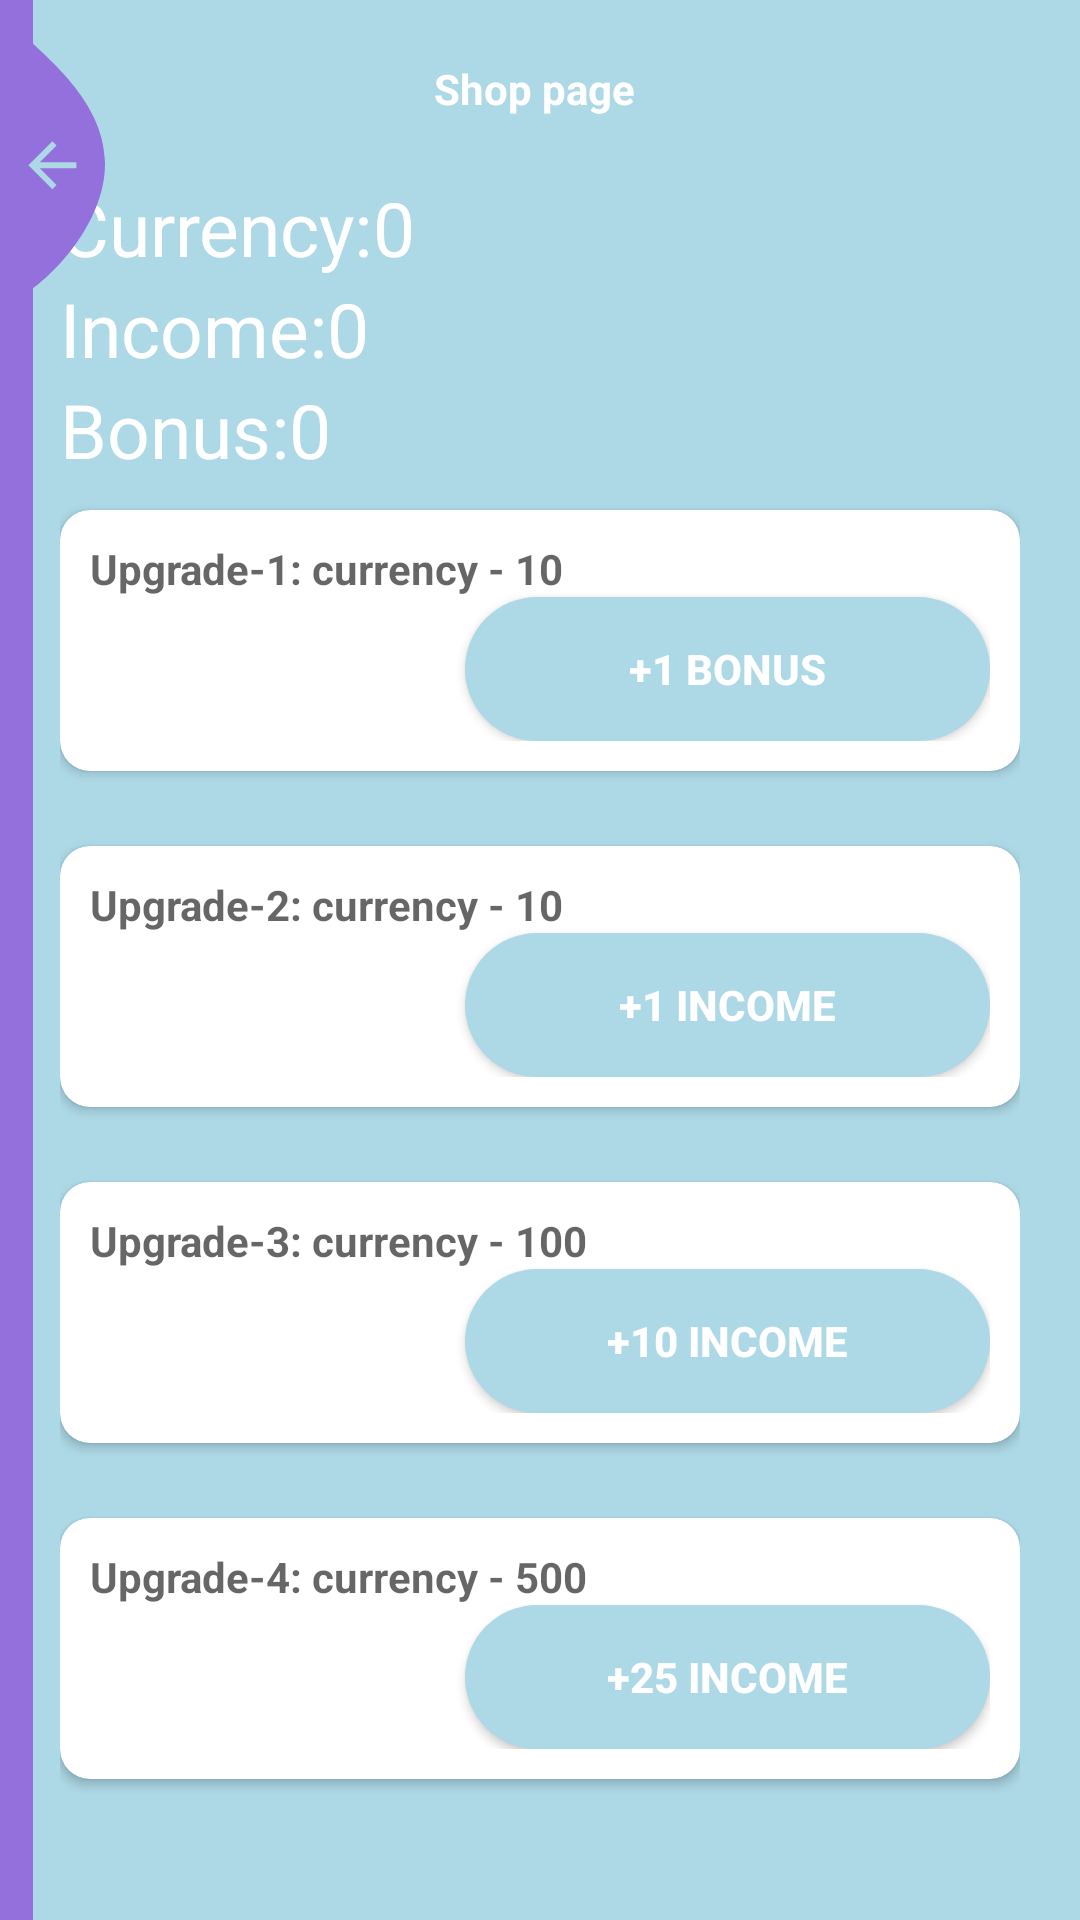

Locate icon controls on the screen. Image size 1080 x 1920, boxes as (x1, y1, x2, y2).
back: (0, 0, 105, 330)
